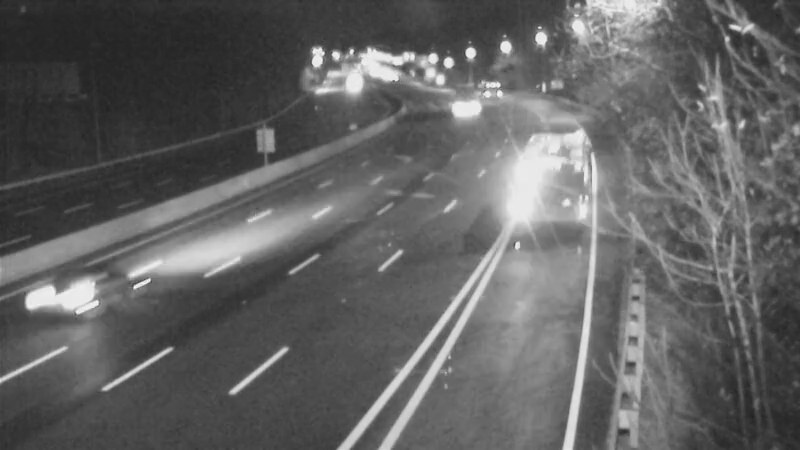vehicle: (499, 117, 579, 197), (31, 260, 111, 340), (465, 66, 515, 116), (436, 69, 486, 119), (326, 57, 376, 107)
